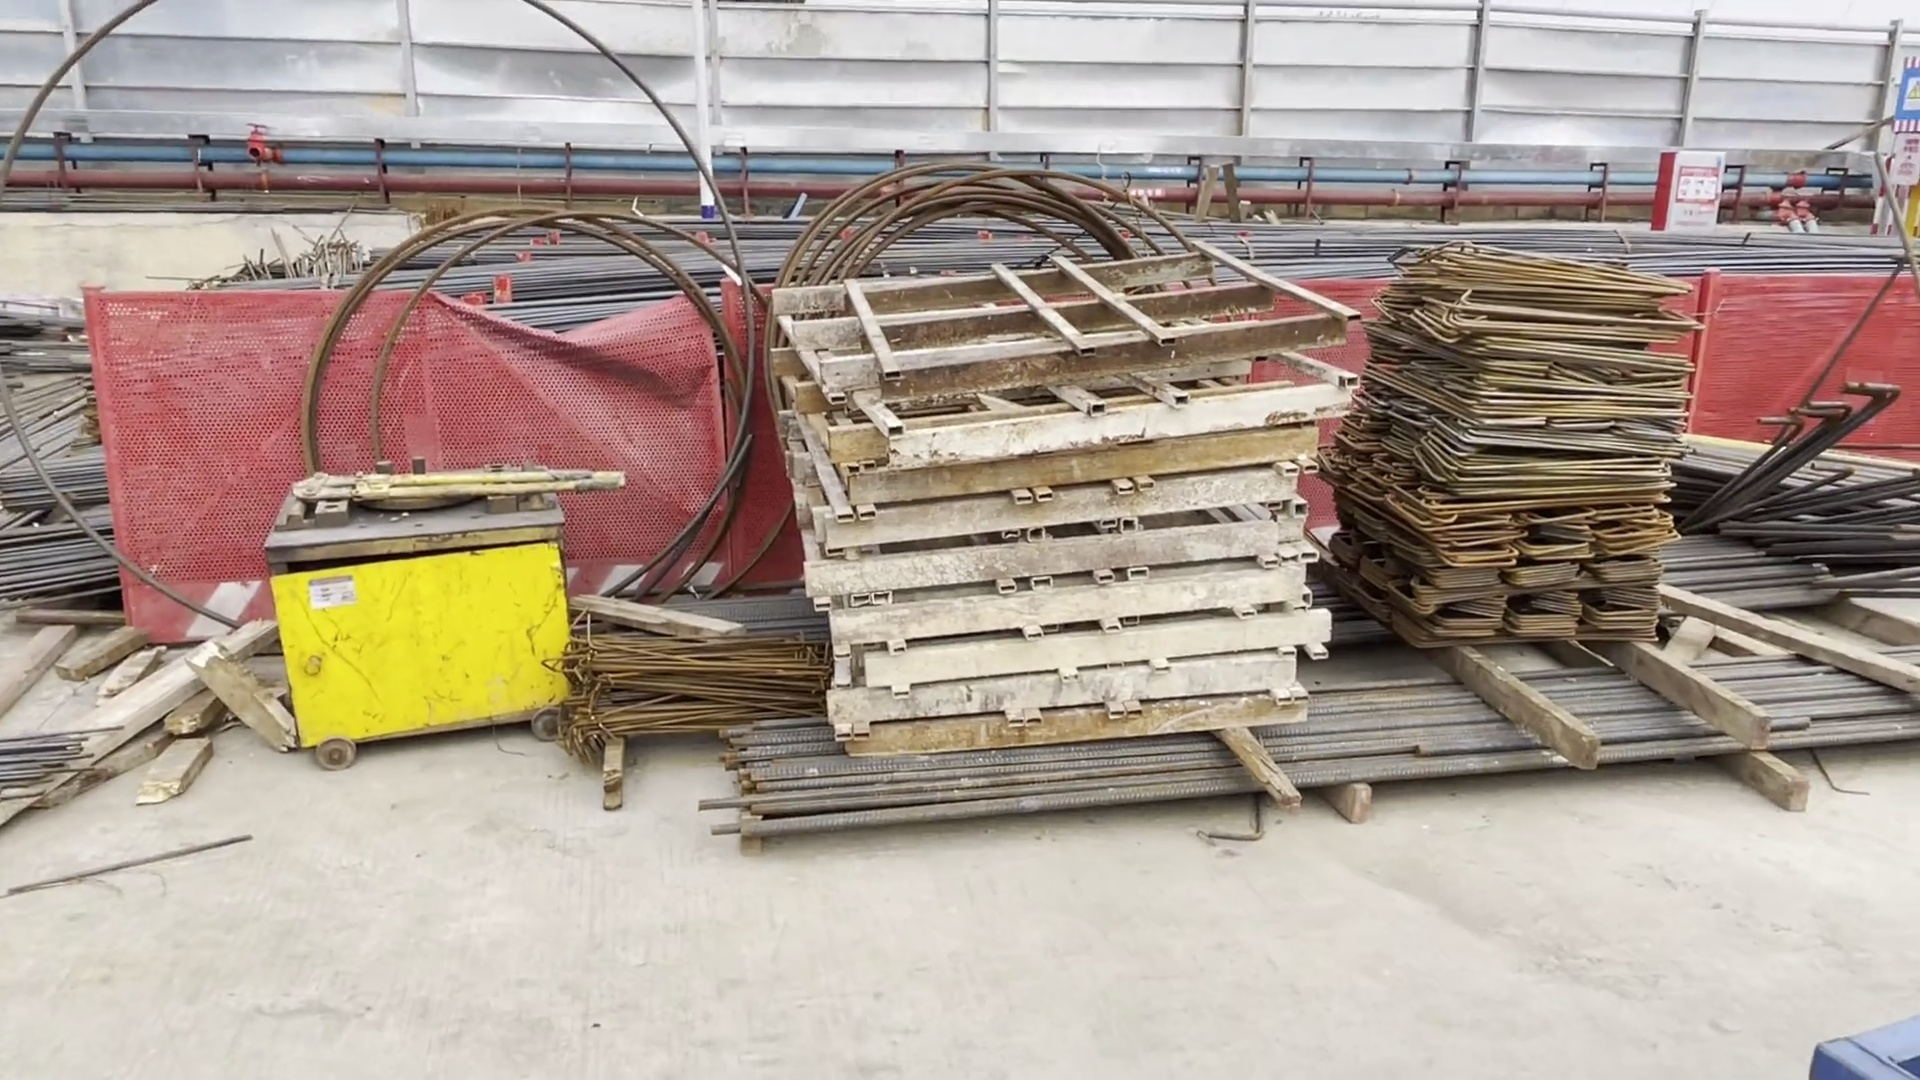fence: (1, 1, 1888, 198)
rebar: (723, 651, 1920, 844)
